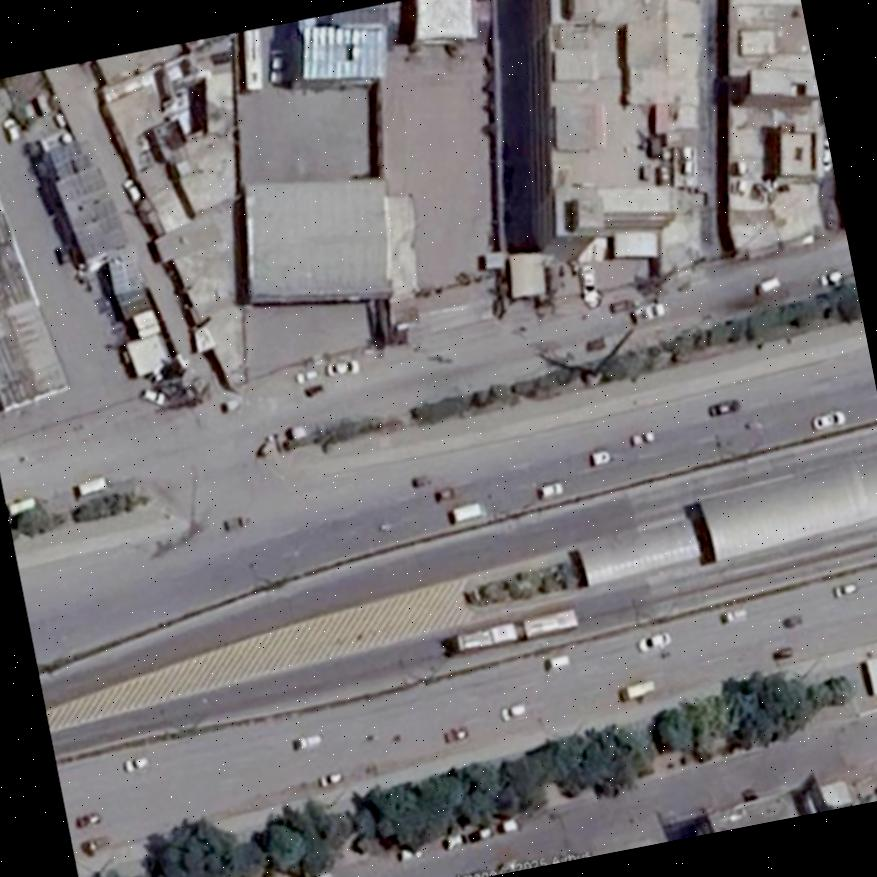Solarpanel: (300, 24, 385, 77)
